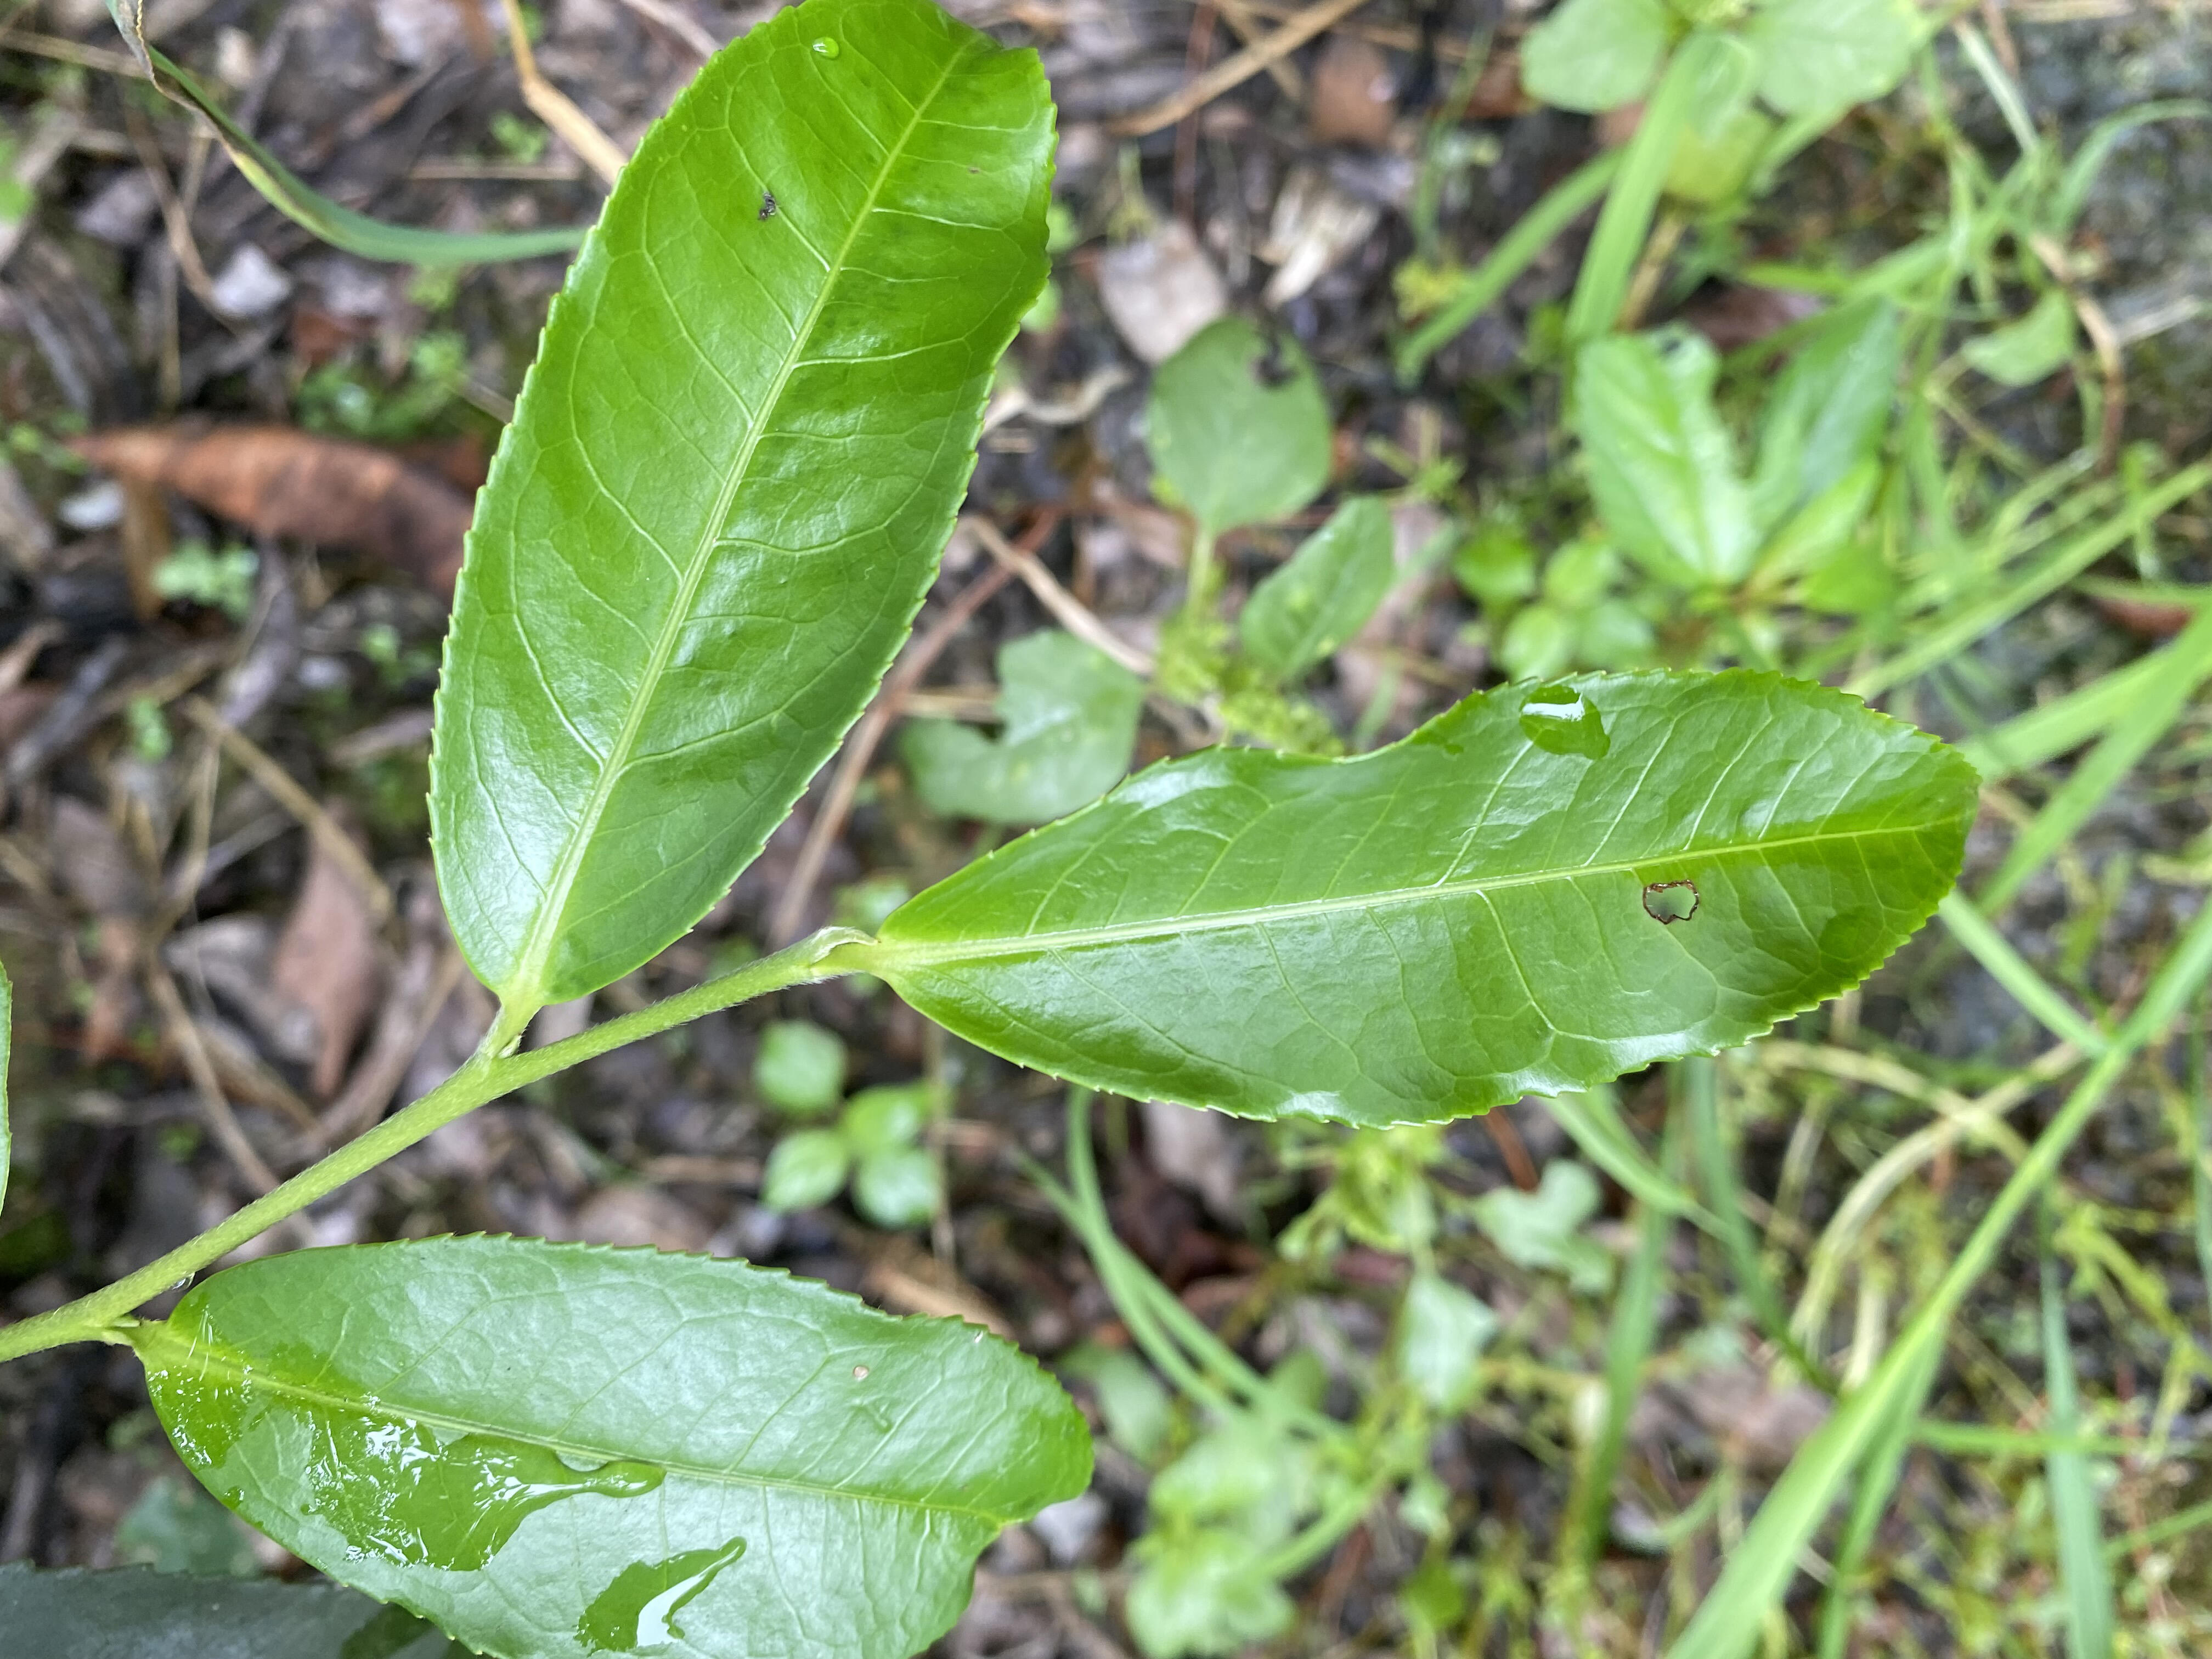chihuo_low: (874, 660, 1991, 1134), (148, 1227, 1092, 1654)
tanju_low: (425, 5, 1061, 1012)
